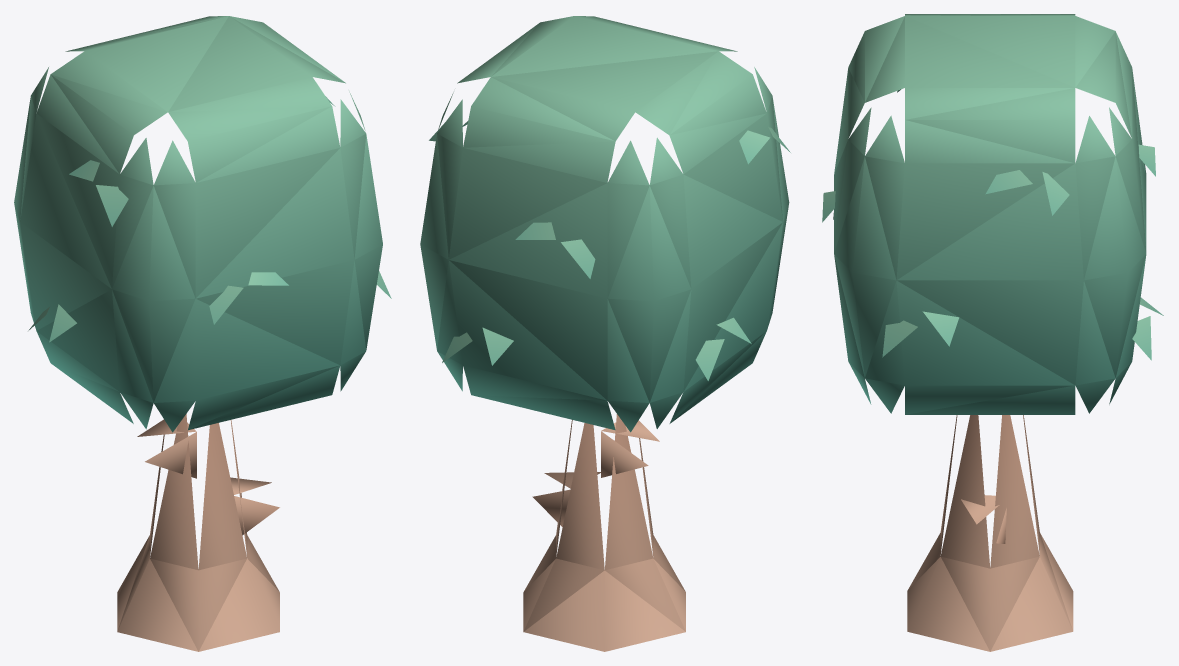
The model's file is tree.glb.
3 renders of one model, left to right at view 1: azimuth 30°, elevation 25°; view 2: azimuth 150°, elevation 25°; view 3: azimuth 270°, elevation 25°, orthographic. The views are drawn at different scales.
Parts seen in each view (by area): view 1: tree; view 2: tree; view 3: tree.
Boxes of the visible parts, x1,y1,x2,y2 form: tree: (14,16,391,651); tree: (420,16,790,651); tree: (822,14,1163,651).
Size of the model in its own units: 1.11 by 1.93 by 1.08.
